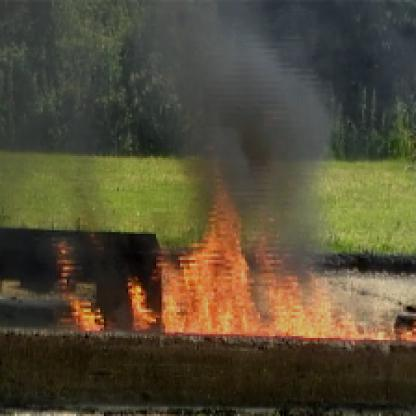Fire: (54, 164, 414, 344)
Smoke: (2, 2, 321, 221)
